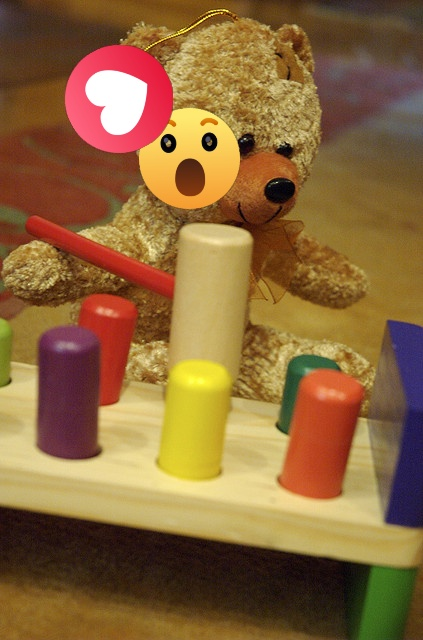love: (65, 45, 173, 153)
wow: (139, 108, 240, 209)
